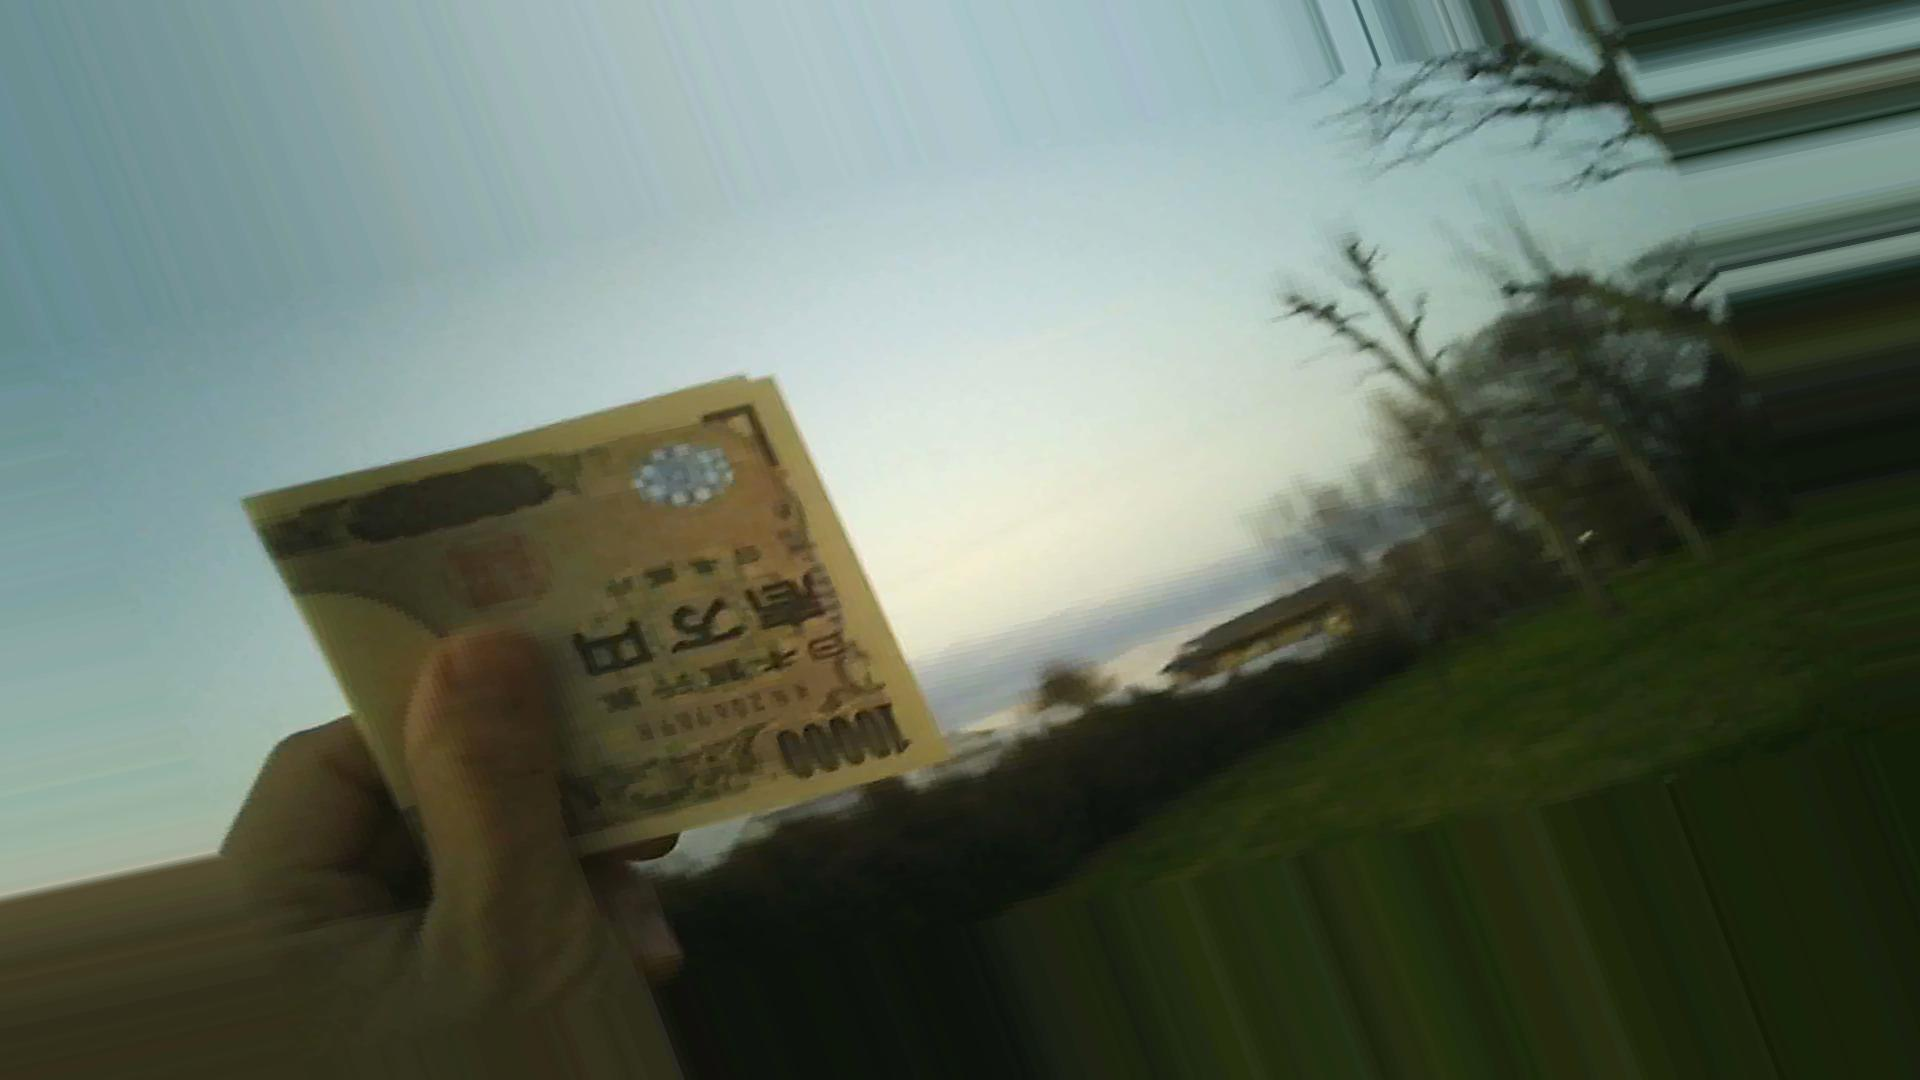10,000 Yen: (229, 352, 919, 865)
